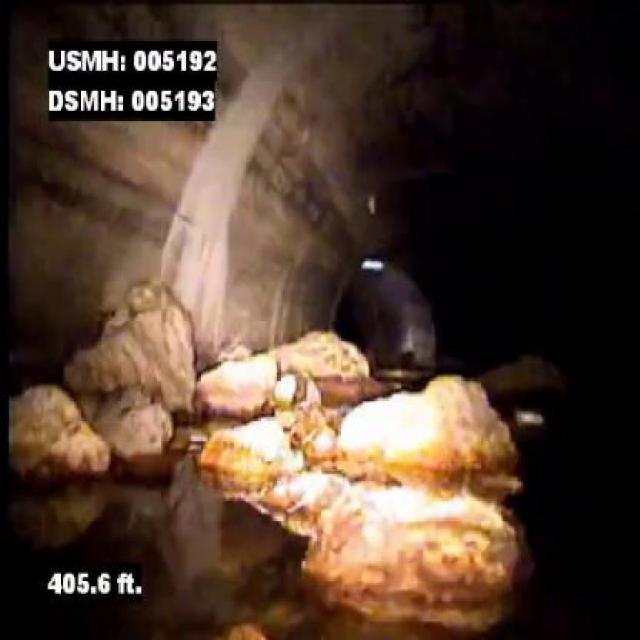Obstacle: (206, 378, 548, 588), (11, 272, 204, 491), (206, 306, 371, 405)
